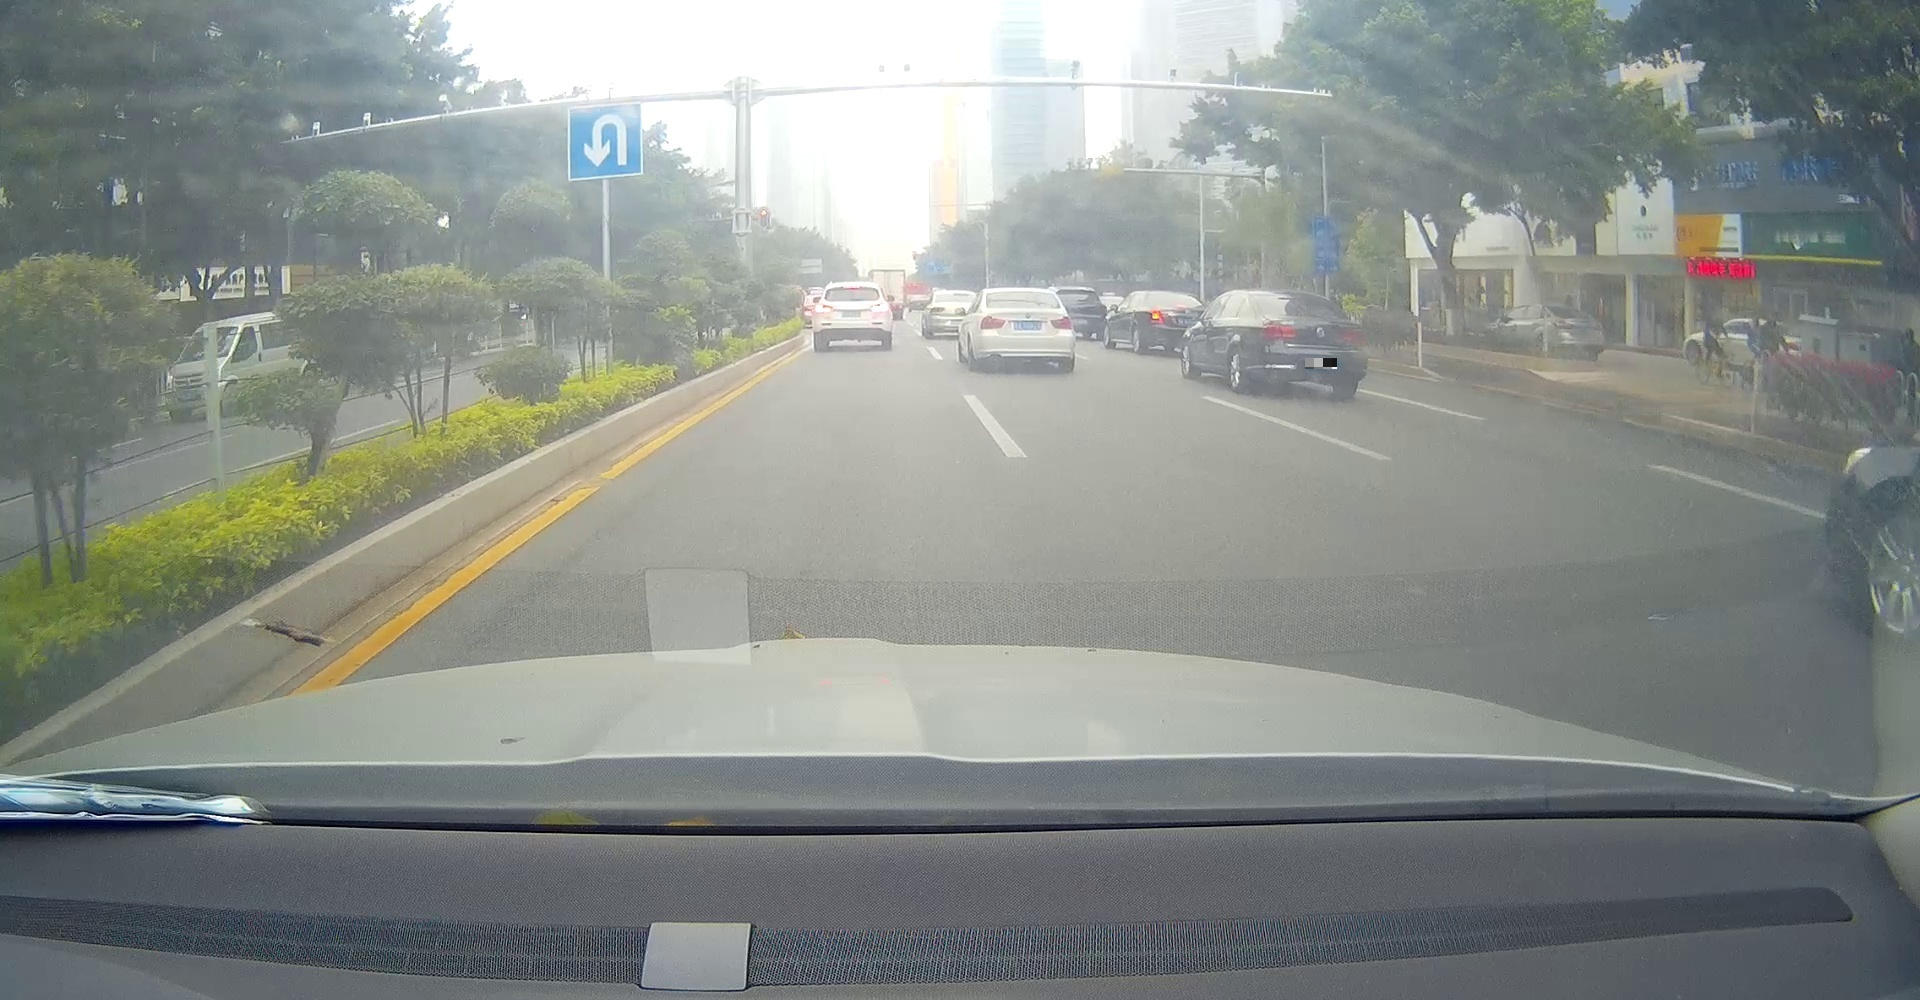L_light: (1263, 325, 1297, 339), (980, 316, 1004, 329), (814, 305, 832, 312), (1556, 320, 1572, 327)
R_light: (1343, 329, 1365, 341), (1051, 317, 1070, 329), (871, 305, 888, 312), (1592, 324, 1603, 329)
T_light: (844, 286, 858, 289), (1291, 298, 1309, 301), (1015, 292, 1030, 294), (1559, 307, 1571, 310)
day-brake: (813, 283, 891, 352)
day-no: (1248, 292, 1368, 398), (978, 288, 1076, 373), (1543, 303, 1604, 359)
plate_1: (1305, 358, 1337, 369)
